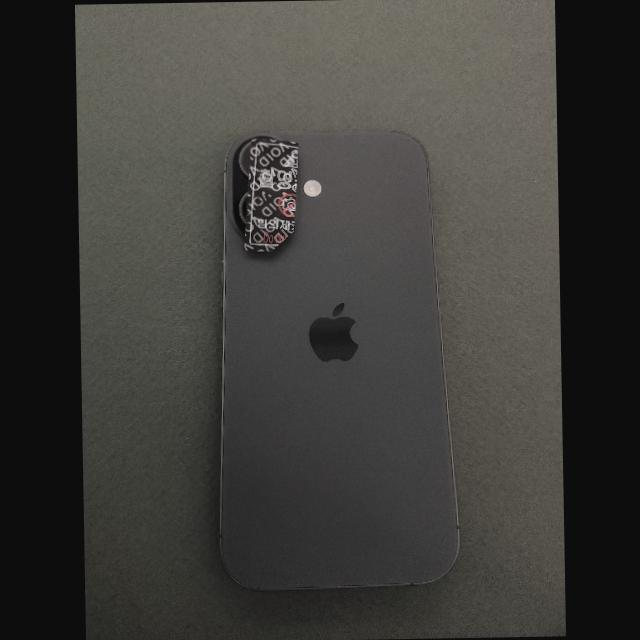lens: (238, 140, 260, 182), (241, 195, 247, 223)
phone: (219, 130, 460, 592)
sticker: (244, 138, 298, 251)
